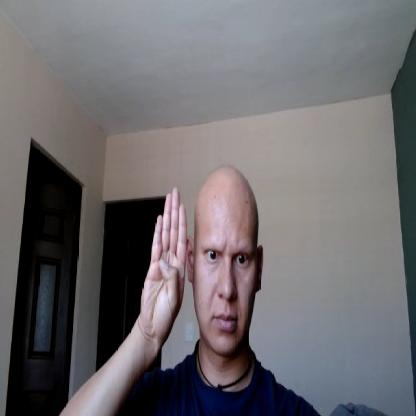B: (141, 188, 186, 342)
